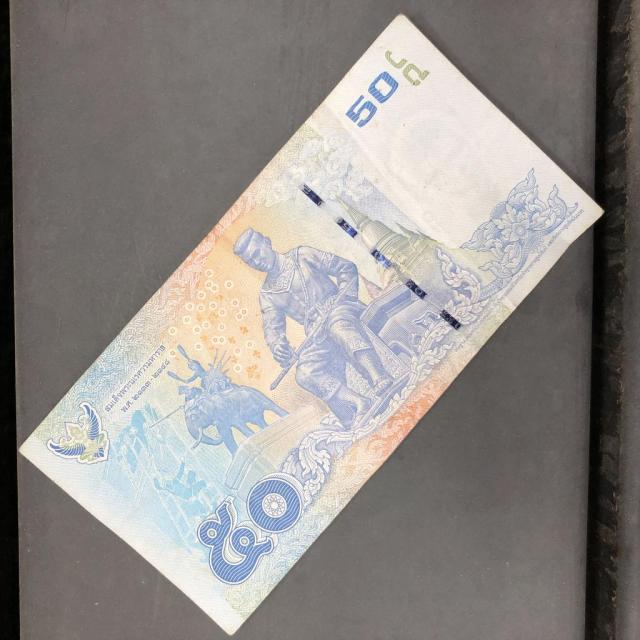THAI50: (21, 16, 602, 632)
